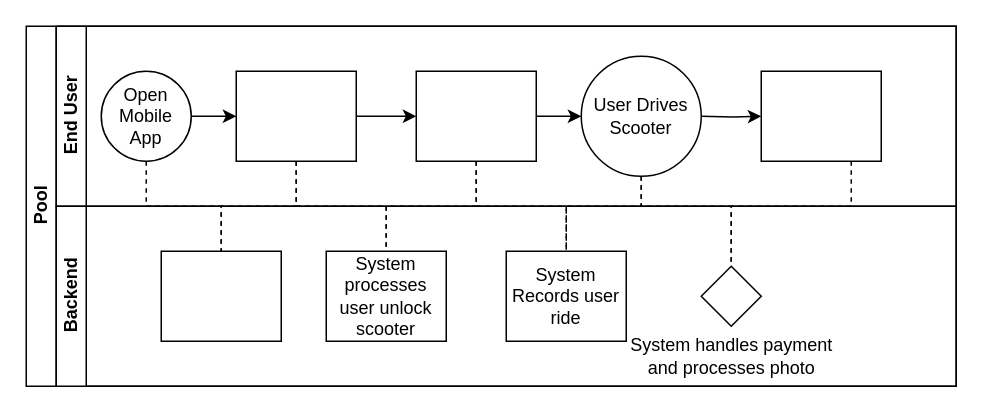
Image size: 983x413. Some labels were removed from this diagram. Here are the shapes that lost their labels. From the top down, the box of each, then its label:
(235, 70, 356, 161): User Locates Nearby Scooter
(415, 70, 536, 161): User Unlocks Scooter
(760, 70, 881, 161): User Parks scooter and takes photo
(160, 250, 281, 341): System Responds to User locating scooter
